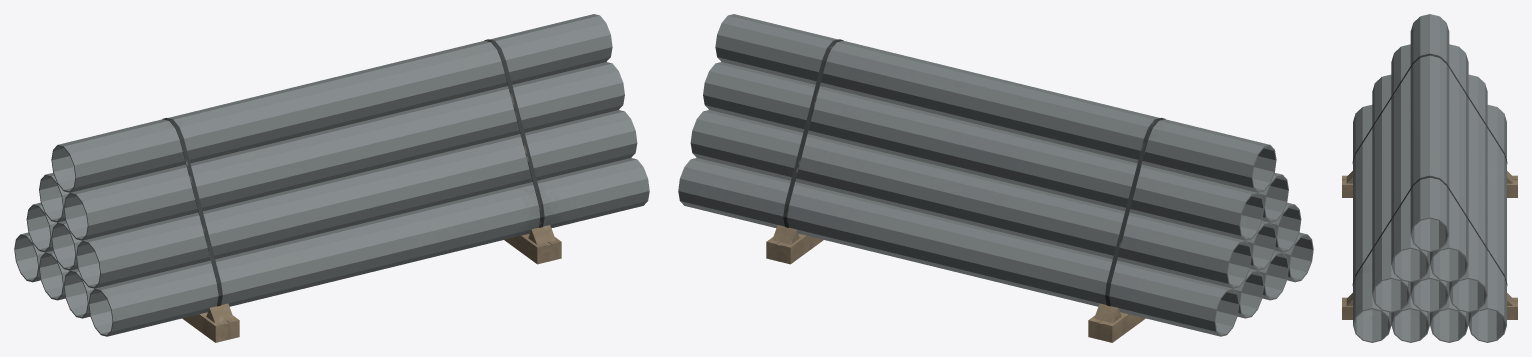
Rendered from steel_pipe_stack_large.glb.
3 views of the same model, side by side, from view 1: azimuth 30°, elevation 25°; view 2: azimuth 150°, elevation 25°; view 3: azimuth 270°, elevation 25° (orthographic). The views are drawn at different scales.
Parts seen in each view (by area): view 1: PipeStackLarge; view 2: PipeStackLarge; view 3: PipeStackLarge.
Boxes of the visible parts, x1,y1,x2,y2 form: PipeStackLarge: (14,14,649,342); PipeStackLarge: (678,14,1313,342); PipeStackLarge: (1342,14,1517,342).
Size of what is drawn, in the model's own units: 4 by 1.27 by 1.46.
1 material, 1 textured.
